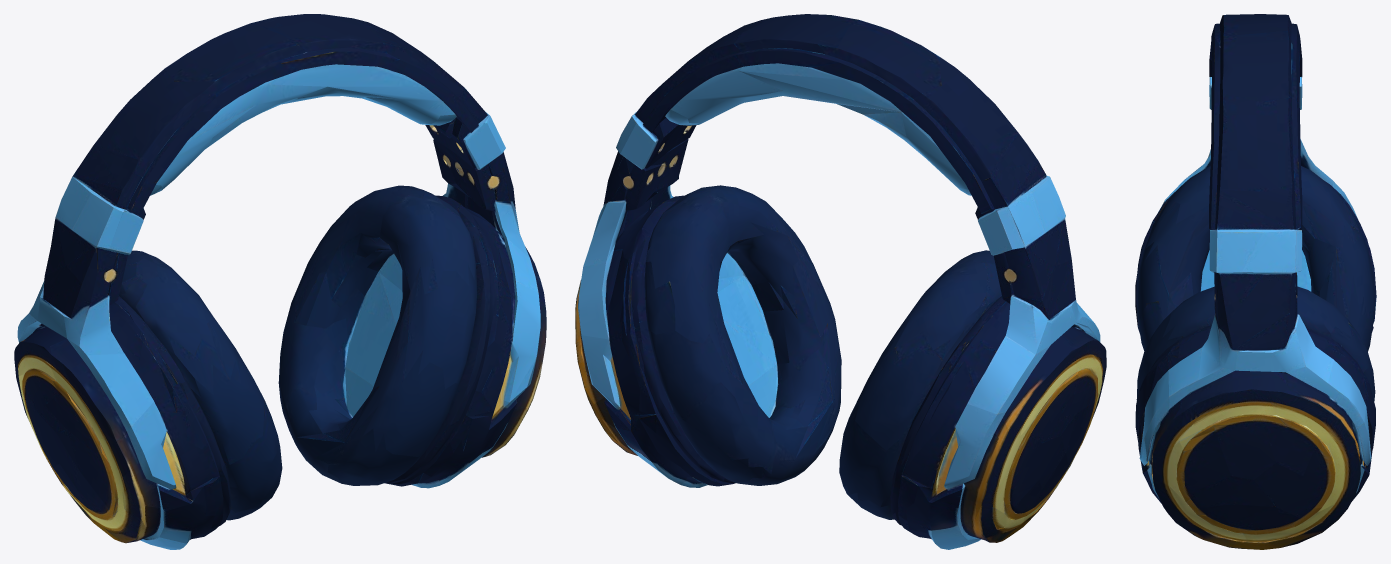
File: acc_headphones.glb
3 views of the same model, side by side, from view 1: azimuth 30°, elevation 25°; view 2: azimuth 150°, elevation 25°; view 3: azimuth 270°, elevation 25° (orthographic). The views are drawn at different scales.
Parts seen in each view (by area): view 1: Mesh_0; view 2: Mesh_0; view 3: Mesh_0.
Part boxes in pixels (x1,y1,x2,y2): Mesh_0: (14, 14, 546, 549); Mesh_0: (575, 14, 1106, 549); Mesh_0: (1135, 14, 1376, 549).
Size of the model in its own units: 1.9 by 1.86 by 0.897.
1 material, 1 textured.
